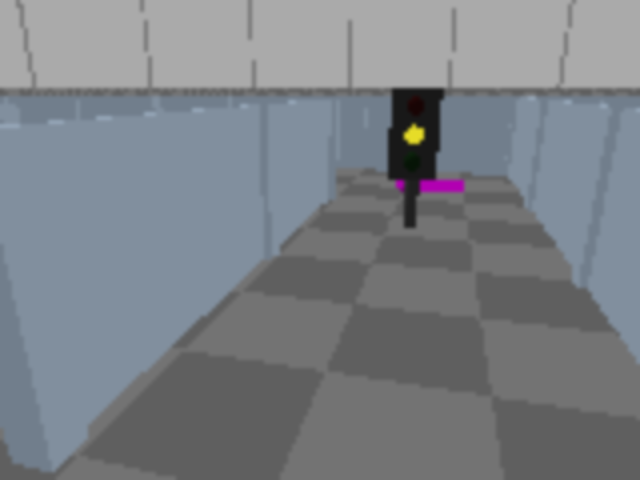goal_zone: (394, 177, 464, 193)
